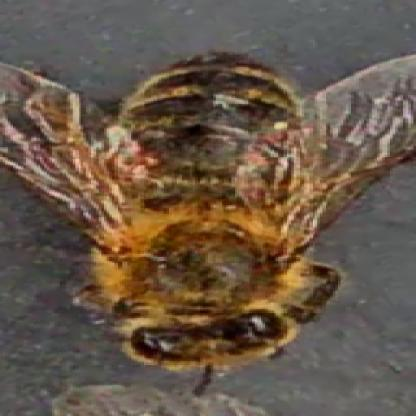bee: (78, 43, 346, 381)
